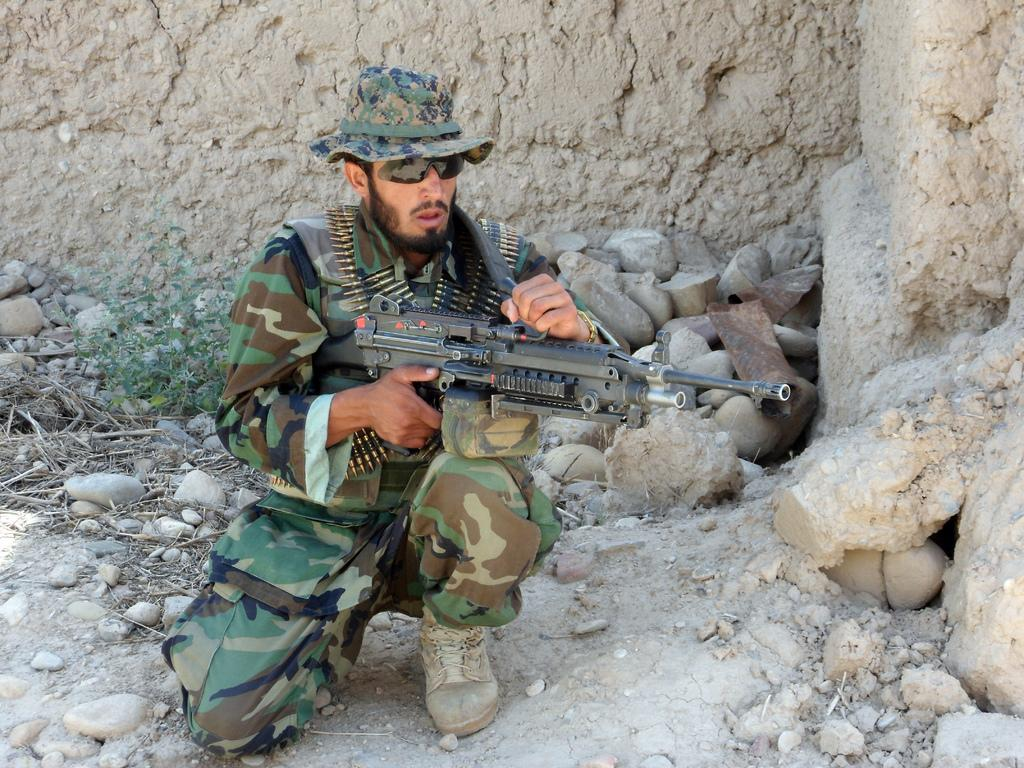Rifle: (312, 278, 765, 471)
